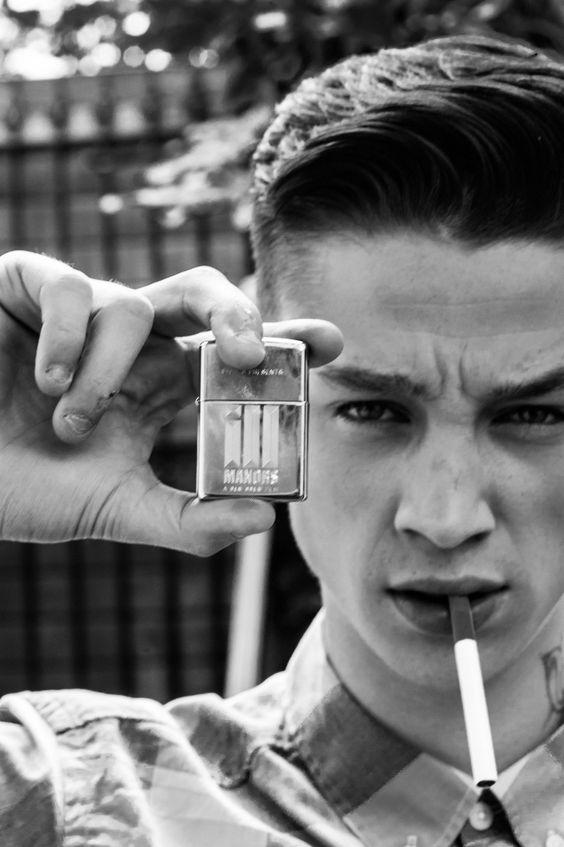cigarette: (447, 594, 498, 788)
